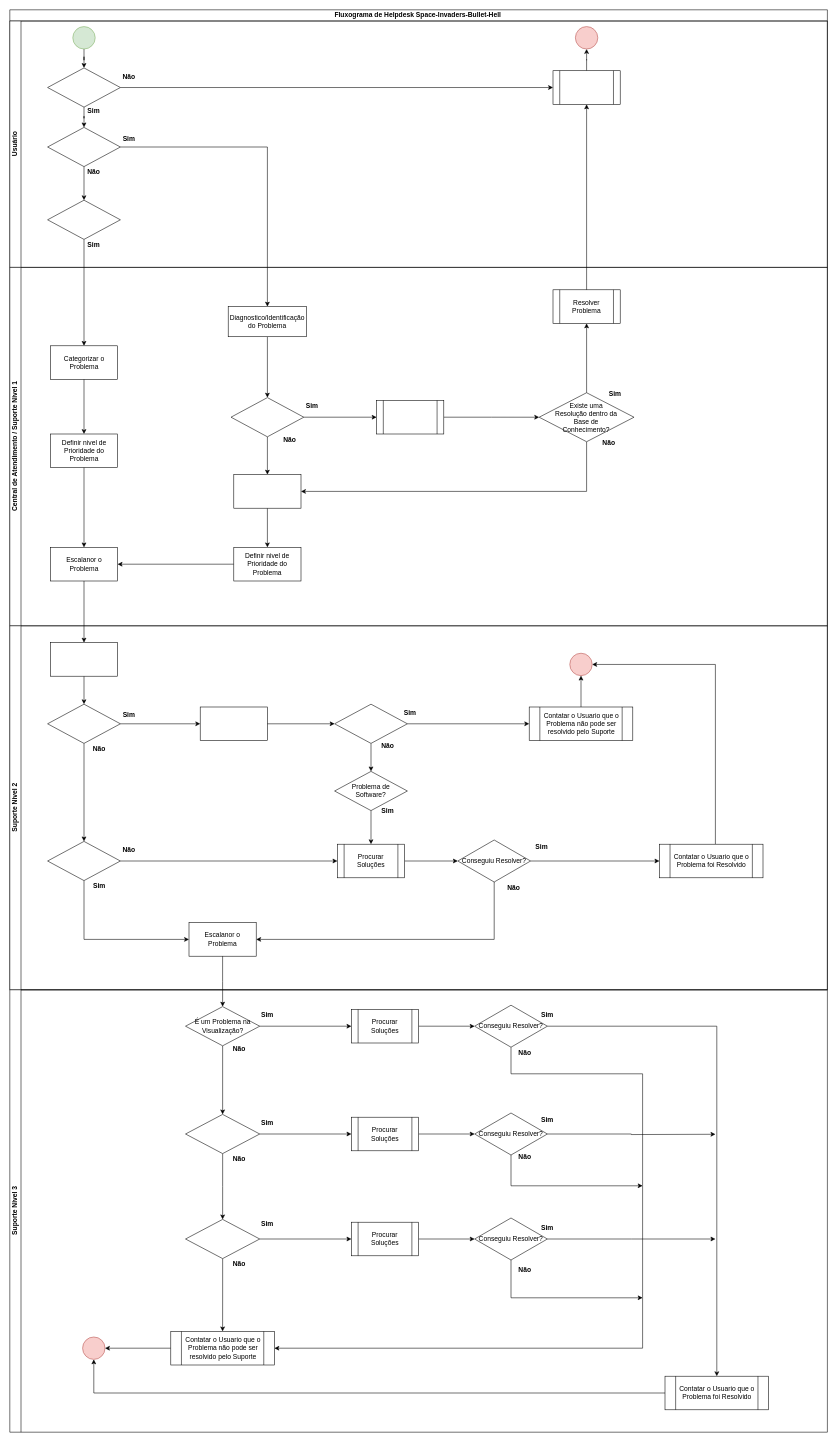
The diagram is 837 pixels wide and 1442 high, and some of its shapes have lost their labels. Here are the shapes that lost their labels. From the top down, the centre of each, then its label:
At point (83, 87): "Aconteceu um Problema?".
At point (586, 87): "Contatar o Usuario sobre a Resolução".
At point (83, 147): "É um Incidente?".
At point (83, 219): "É uma Requisição?".
At point (267, 417): "Conseguiu Identificar?".
At point (410, 417): "Conferir Base de Conhecimento".
At point (267, 491): "Categorizar o Problema (Incidente)".
At point (84, 659): "Averiguar Fichas Descritivas dos Problemas".
At point (83, 723): "É um Problema com o Usuário?".
At point (233, 723): "Entrar em Contato com o Usuario".
At point (370, 723): "Problema de Hardware?".
At point (83, 861): "É um Problema com o Sistema?".
At point (222, 1134): "É um Problema na Aplicação?".
At point (222, 1239): "É um Problema no Servidor?".
